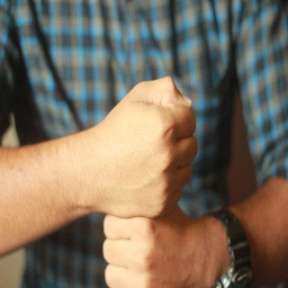G: (84, 75, 207, 288)
